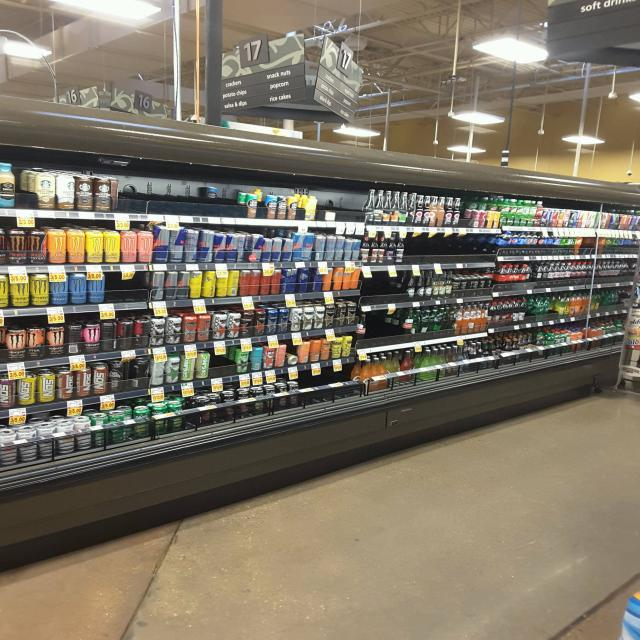empty: (394, 235, 497, 265), (116, 182, 212, 209), (303, 367, 353, 409), (316, 186, 368, 223), (360, 271, 411, 306), (368, 311, 411, 351), (105, 272, 150, 300), (204, 351, 241, 380), (11, 170, 39, 206)
